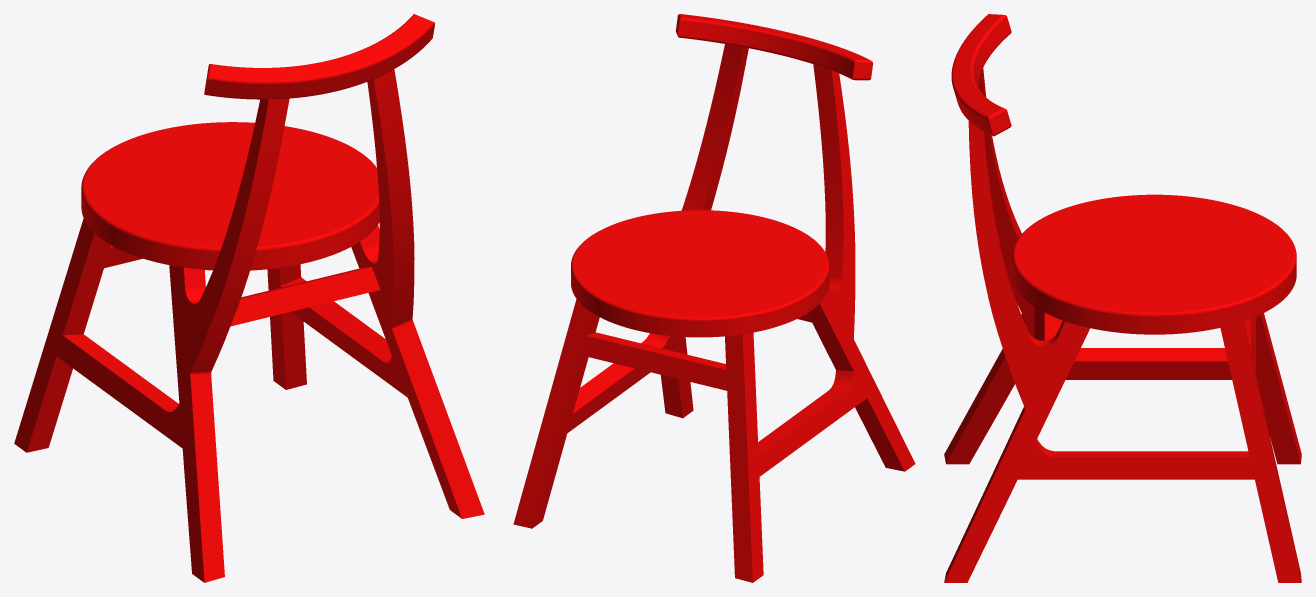
The picture shows the model from 3 angles, left to right: view 1: azimuth 30°, elevation 25°; view 2: azimuth 150°, elevation 25°; view 3: azimuth 270°, elevation 25°; orthographic projection. The views are drawn at different scales.
Bounding box in the file's own units: 12.58 × 20.86 × 14.79.
